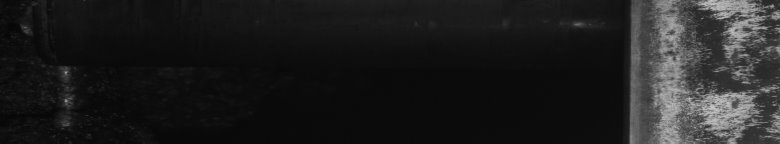kb: (650, 4, 776, 136)
